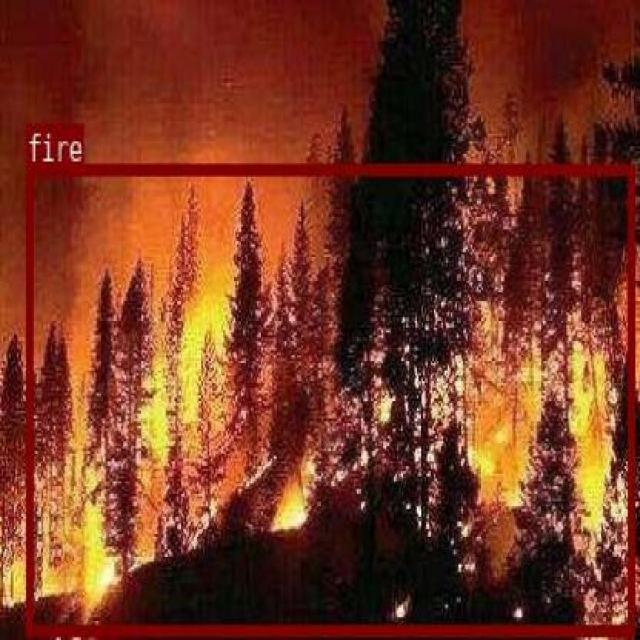Fire: (25, 162, 633, 633)
